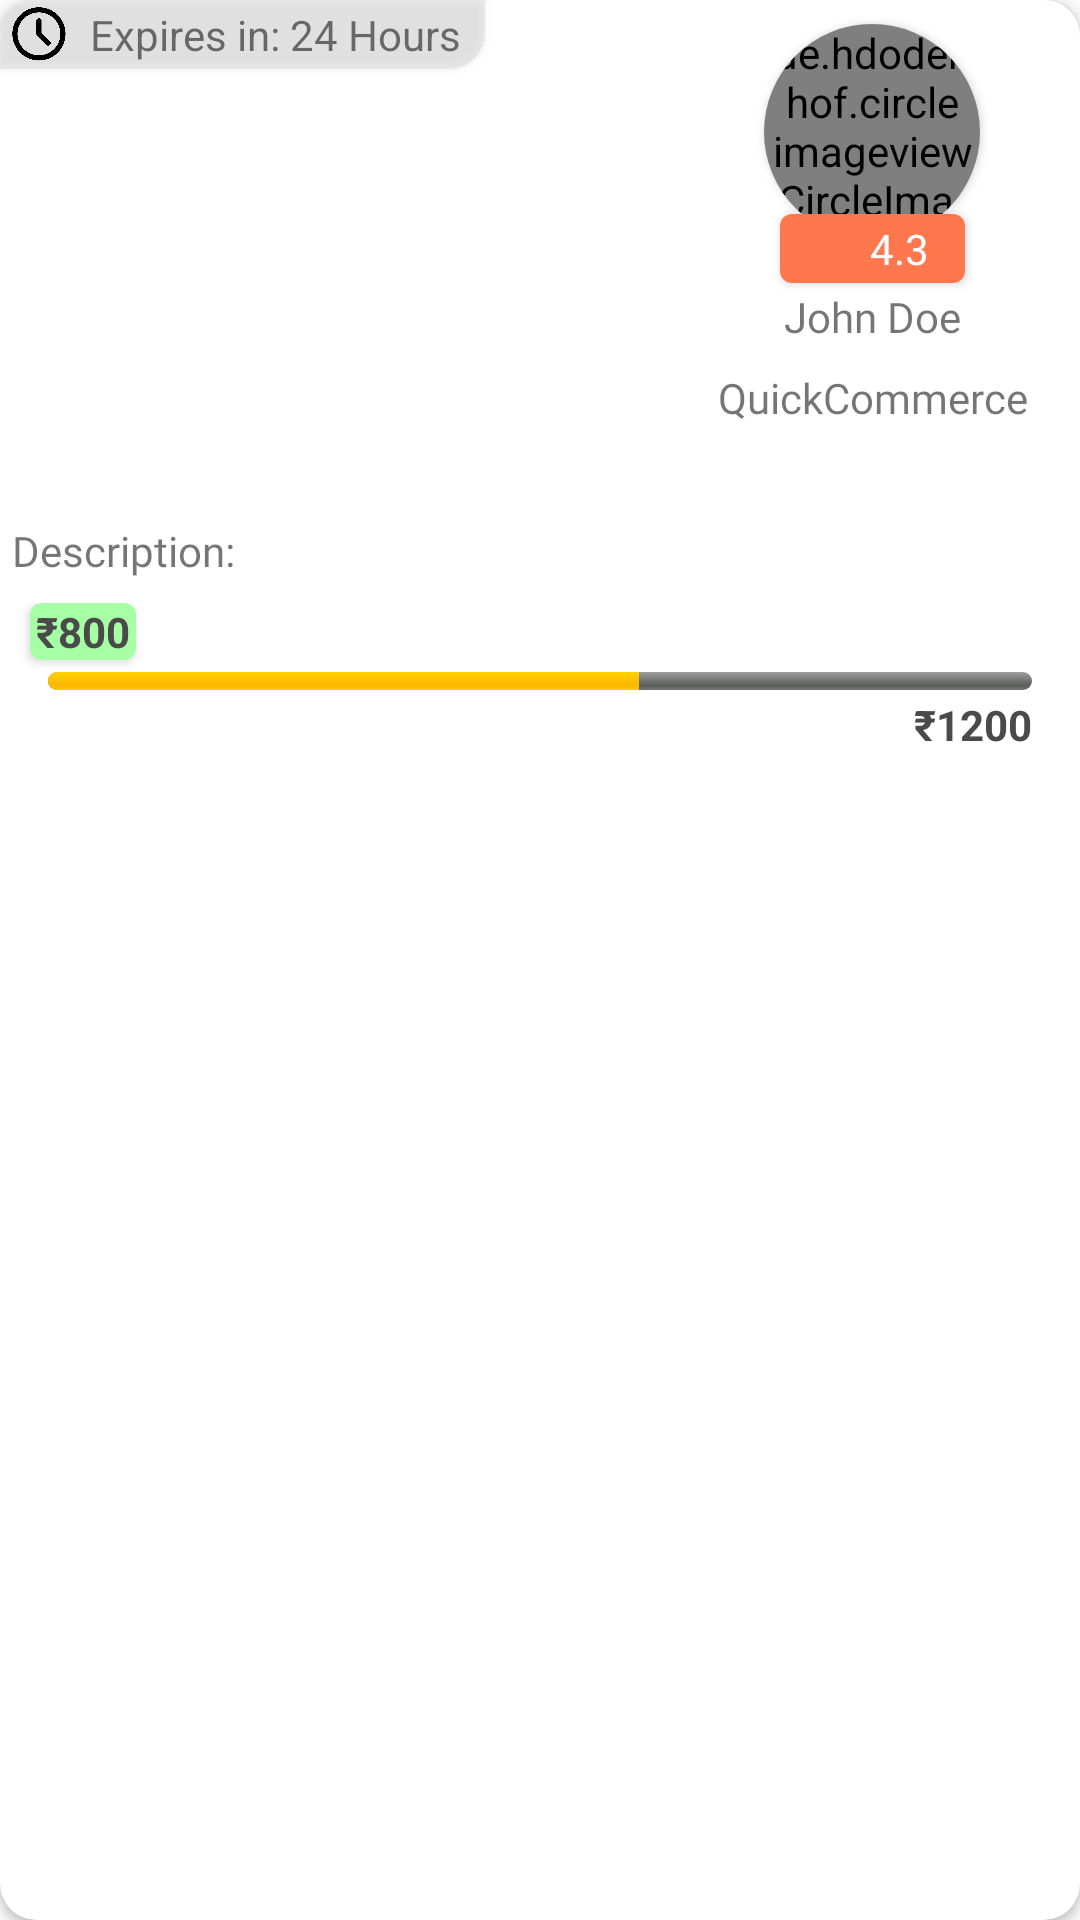

Named icons in this screenshot (1080×1920) and their bounding boxes, (x1, y1, x2, y2):
time icon: (12, 7, 66, 61)
